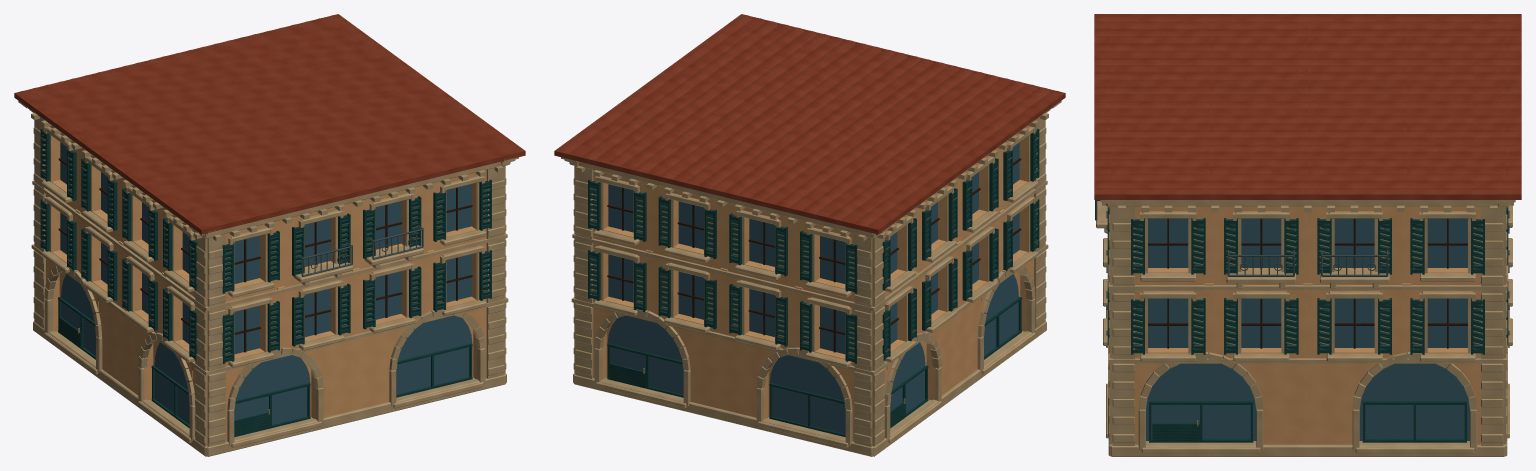
Rendered from atelier.glb.
3 views of the same model, side by side, from view 1: azimuth 30°, elevation 25°; view 2: azimuth 150°, elevation 25°; view 3: azimuth 270°, elevation 25° (orthographic). The views are drawn at different scales.
Visible parts, largest first — view 1: Barrel terracotta, Honey limestone, Atelier ochre plaster, Deep blue glazing, Aged teal timber, Graphite iron, Oiled walnut; view 2: Barrel terracotta, Honey limestone, Atelier ochre plaster, Deep blue glazing, Aged teal timber, Oiled walnut, Graphite iron; view 3: Barrel terracotta, Honey limestone, Deep blue glazing, Atelier ochre plaster, Aged teal timber, Graphite iron, Oiled walnut.
Boxes of the visible parts, x1,y1,x2,y2 form: Barrel terracotta: [14, 14, 525, 234]; Honey limestone: [18, 101, 518, 456]; Atelier ochre plaster: [46, 126, 486, 445]; Deep blue glazing: [60, 142, 472, 424]; Aged teal timber: [40, 129, 491, 437]; Graphite iron: [41, 137, 490, 356]; Oiled walnut: [58, 158, 472, 352]; Barrel terracotta: [554, 14, 1065, 234]; Honey limestone: [561, 101, 1061, 456]; Atelier ochre plaster: [593, 126, 1033, 445]; Deep blue glazing: [607, 142, 1019, 434]; Aged teal timber: [588, 129, 1039, 437]; Oiled walnut: [607, 158, 1021, 352]; Graphite iron: [589, 137, 1038, 356]; Barrel terracotta: [1094, 14, 1521, 199]; Honey limestone: [1096, 200, 1515, 456]; Deep blue glazing: [1146, 218, 1469, 440]; Atelier ochre plaster: [1112, 206, 1503, 444]; Aged teal timber: [1107, 207, 1508, 442]; Graphite iron: [1095, 200, 1509, 346]; Oiled walnut: [1148, 218, 1467, 348].
Size of the model in its own units: 13 by 9.04 by 13.
8 materials, 5 textured.
